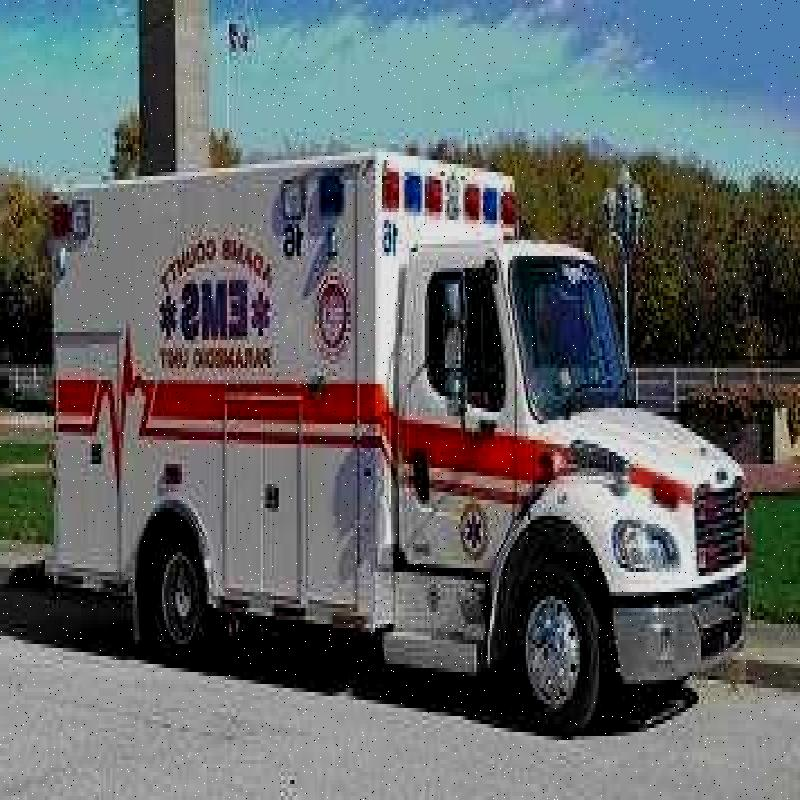AmbulanceSiren: (368, 170, 526, 237)
ambulance: (6, 129, 764, 695)
